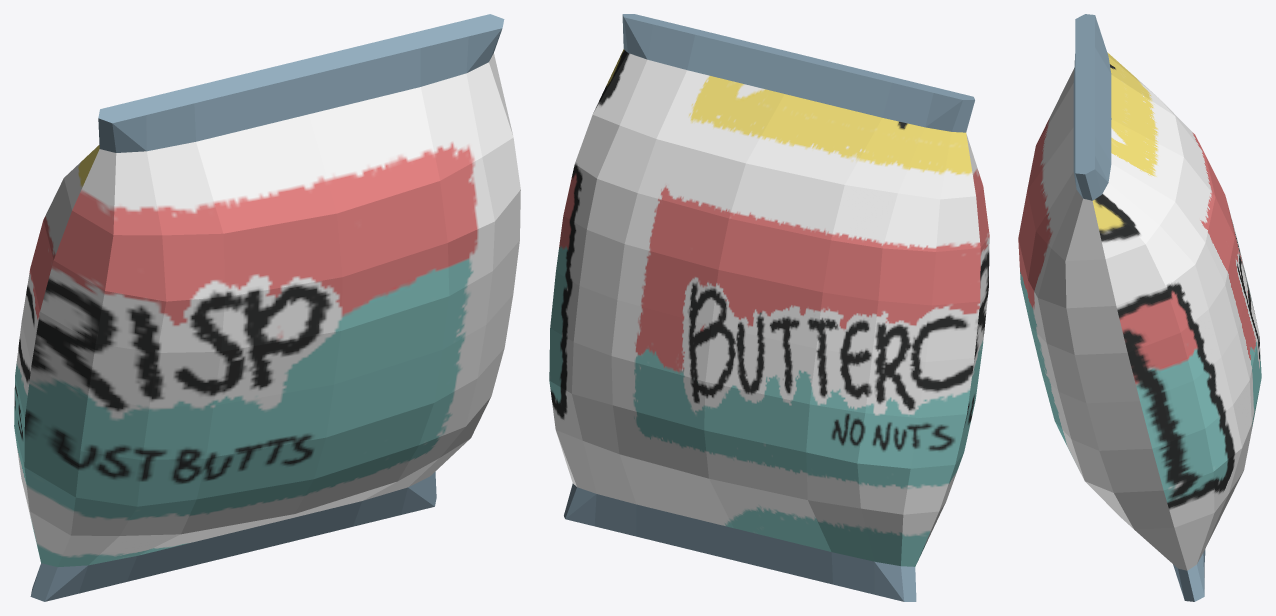
The model's file is Snack.CocoaNeverminds.fbx.
3 views of the same model, side by side, from view 1: azimuth 30°, elevation 25°; view 2: azimuth 150°, elevation 25°; view 3: azimuth 270°, elevation 25° (orthographic). The views are drawn at different scales.
Parts seen in each view (by area): view 1: Snack.CocoaNeverminds; view 2: Snack.CocoaNeverminds; view 3: Snack.CocoaNeverminds.
Boxes of the visible parts, x1,y1,x2,y2 form: Snack.CocoaNeverminds: (14, 14, 520, 601); Snack.CocoaNeverminds: (549, 14, 989, 601); Snack.CocoaNeverminds: (1018, 14, 1261, 601).
Bounding box in the file's own units: 116 × 125 × 64.
